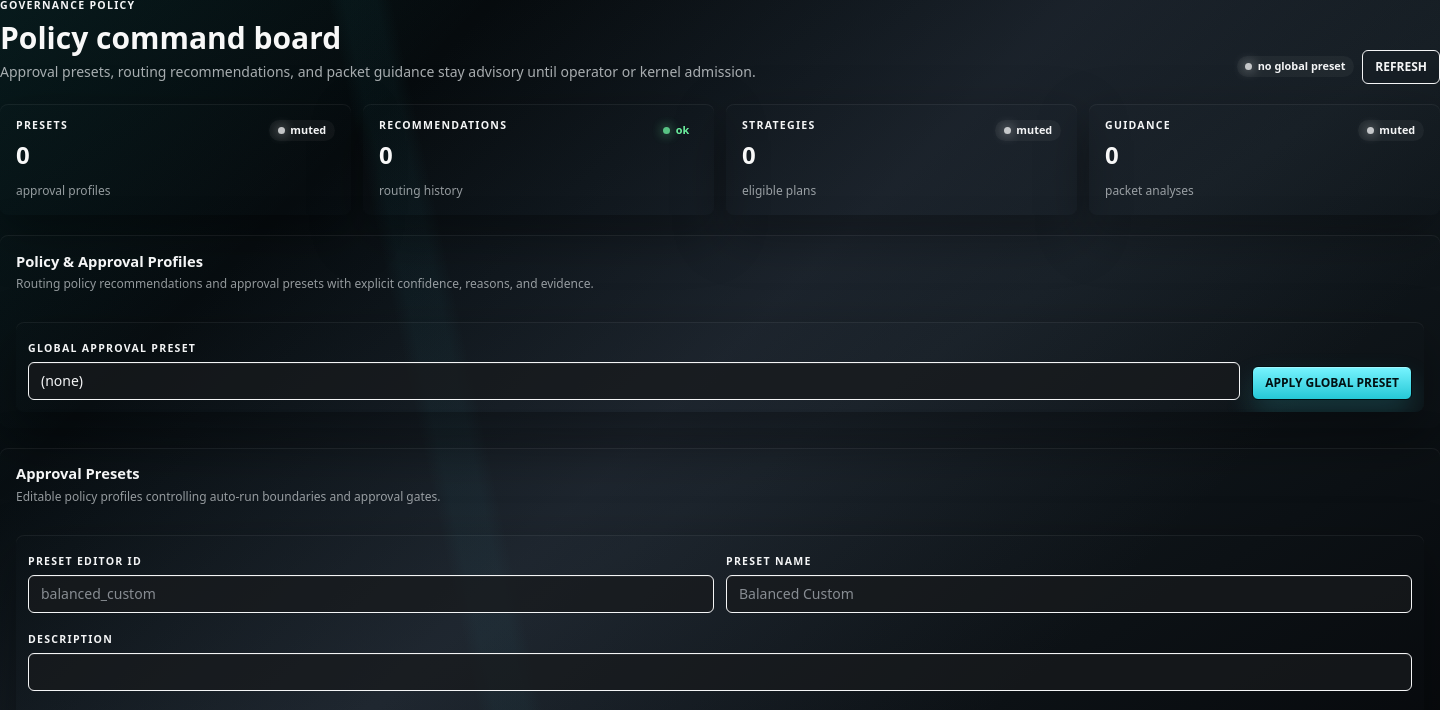
Test: PolicyPage › renders global preset save errors
This screenshot has width=1440, height=710.
Click the button "Apply Global Preset".
click(1332, 383)  # box [1252,366,1412,400]
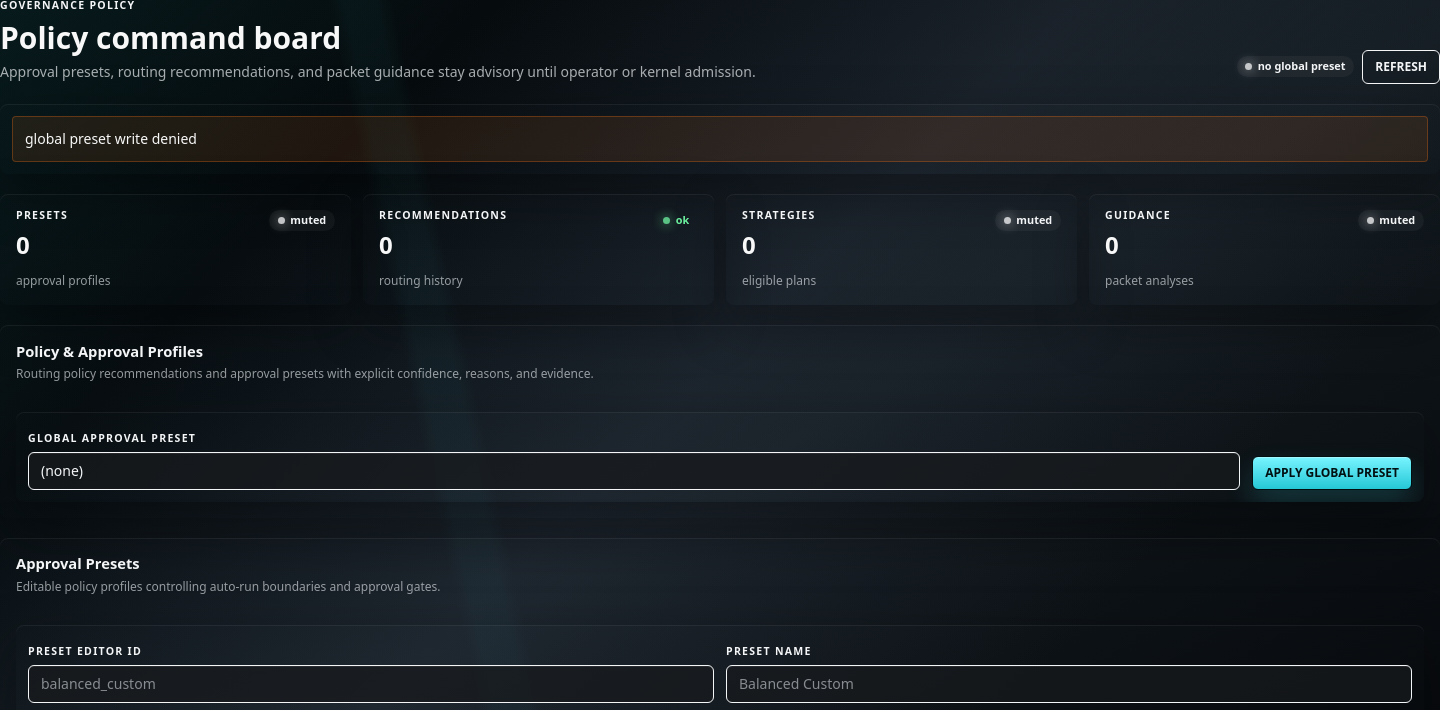
Now the text "global preset write denied" is shown, box [12,116,1428,162]
